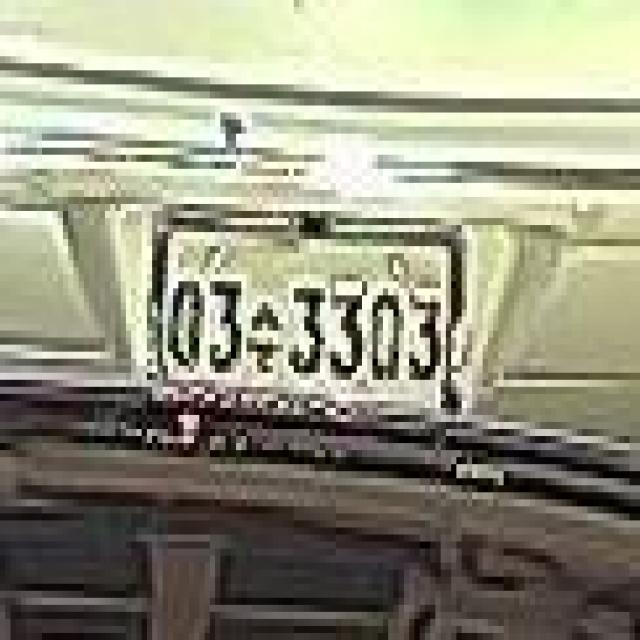illegal_plate: (152, 212, 459, 423)
